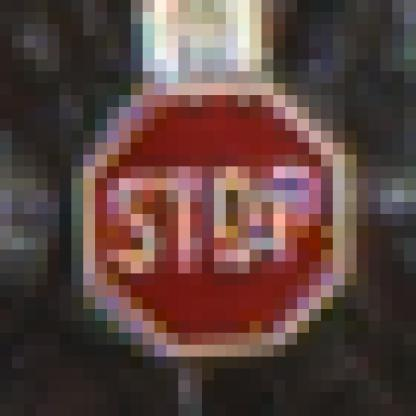stop: (75, 75, 364, 364)
